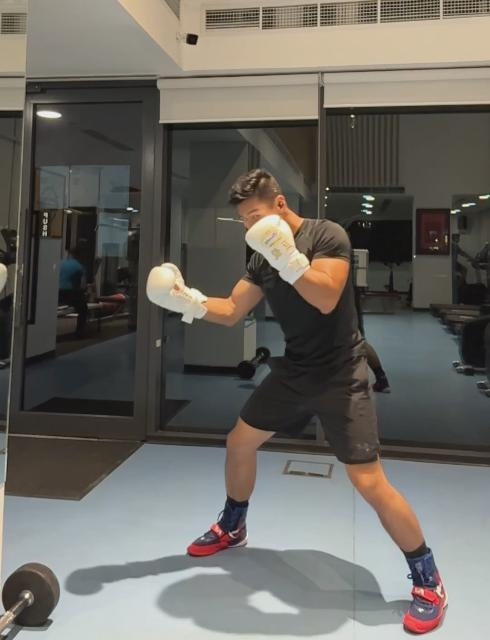punch: (144, 167, 450, 638)
